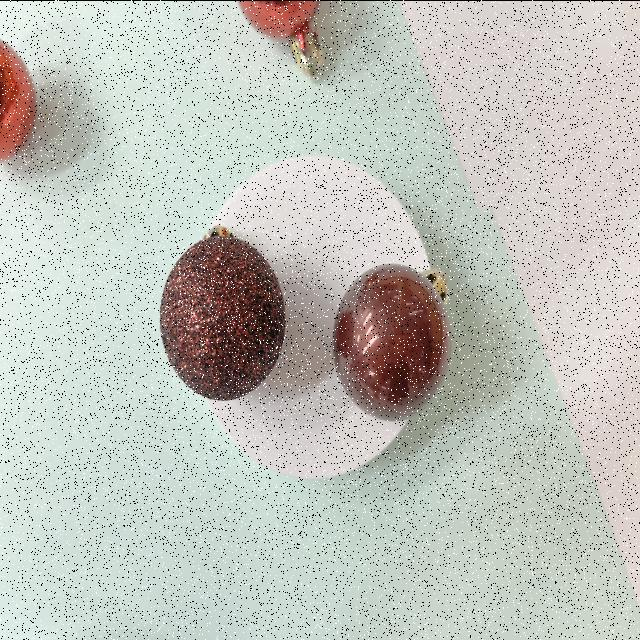glitter-bauble: (154, 208, 296, 408), (160, 223, 287, 400)
wine-red-bauble: (331, 246, 459, 438), (332, 262, 452, 421)
